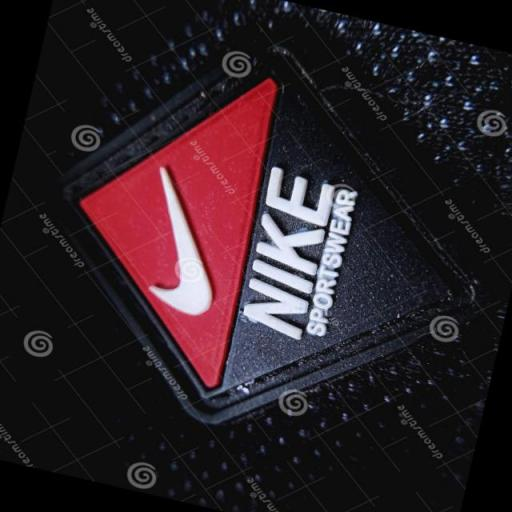Nike: (235, 158, 340, 342), (130, 164, 243, 320)
